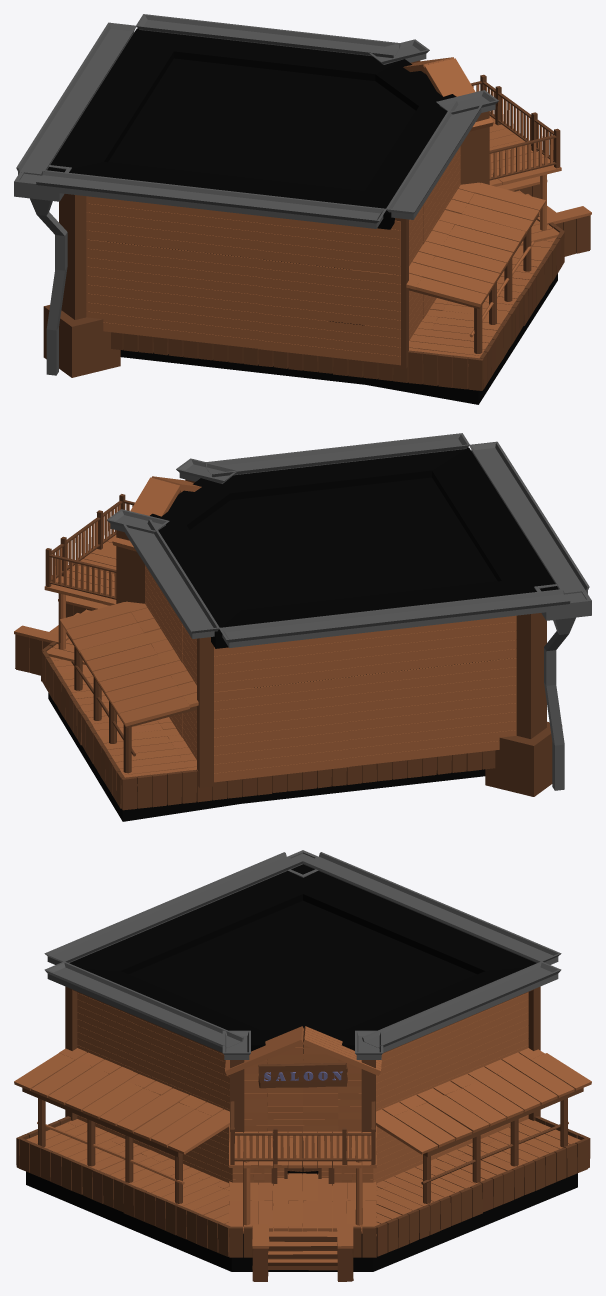
Rendered from Saloon.fbx.
3 views of the same model, one above another, from view 1: azimuth 30°, elevation 25°; view 2: azimuth 150°, elevation 25°; view 3: azimuth 270°, elevation 25° (orthographic). The views are drawn at different scales.
Visible parts, largest first — view 1: Saloon; view 2: Saloon; view 3: Saloon.
Boxes of the visible parts, bbox=[...] form: Saloon: bbox=[14, 14, 591, 404]; Saloon: bbox=[14, 433, 591, 821]; Saloon: bbox=[14, 850, 591, 1281].
Bounding box in the file's own units: 862 × 321 × 820.
